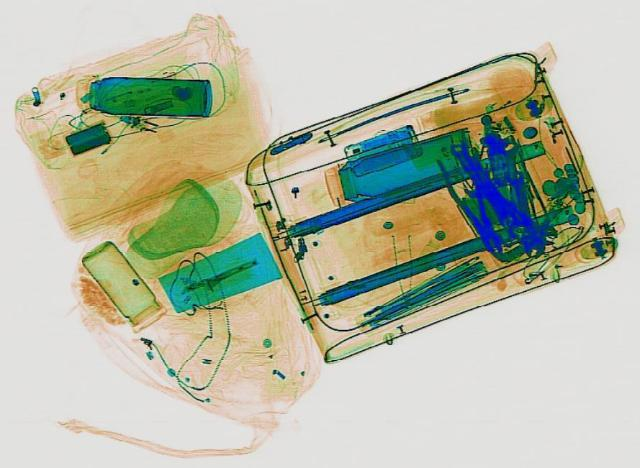Pliers: (430, 152, 520, 254)
Wrench: (441, 138, 543, 238)
